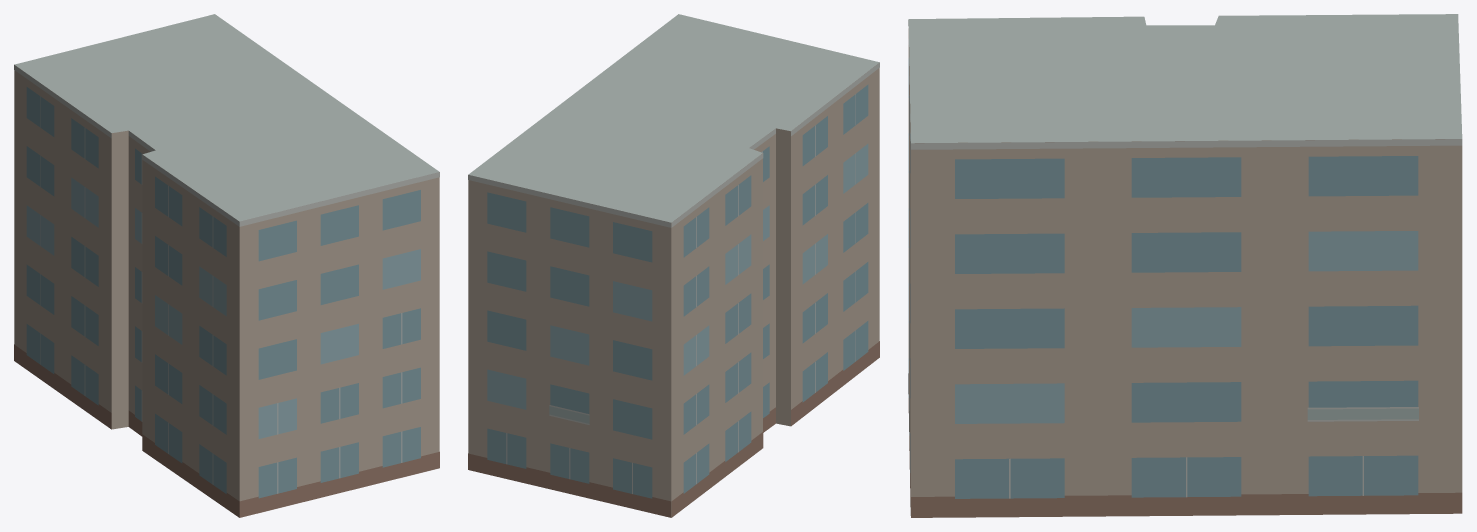
File: survey-upis-32768001.glb
3 renders of one model, left to right at view 1: azimuth 30°, elevation 25°; view 2: azimuth 150°, elevation 25°; view 3: azimuth 270°, elevation 25°, orthographic. The views are drawn at different scales.
Parts seen in each view (by area): view 1: survey-upis-32768001.tmp; view 2: survey-upis-32768001.tmp; view 3: survey-upis-32768001.tmp.
Boxes of the visible parts, <box> form: survey-upis-32768001.tmp: <box>14,14,439,517</box>; survey-upis-32768001.tmp: <box>468,14,879,517</box>; survey-upis-32768001.tmp: <box>908,14,1462,517</box>.
Size of the model in its own units: 10.16 by 13.73 by 18.4.
